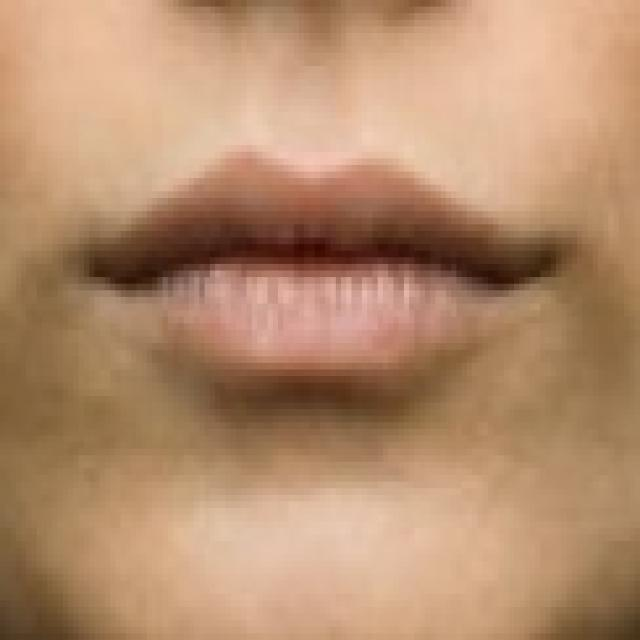closed-mouth: (73, 138, 572, 402)
